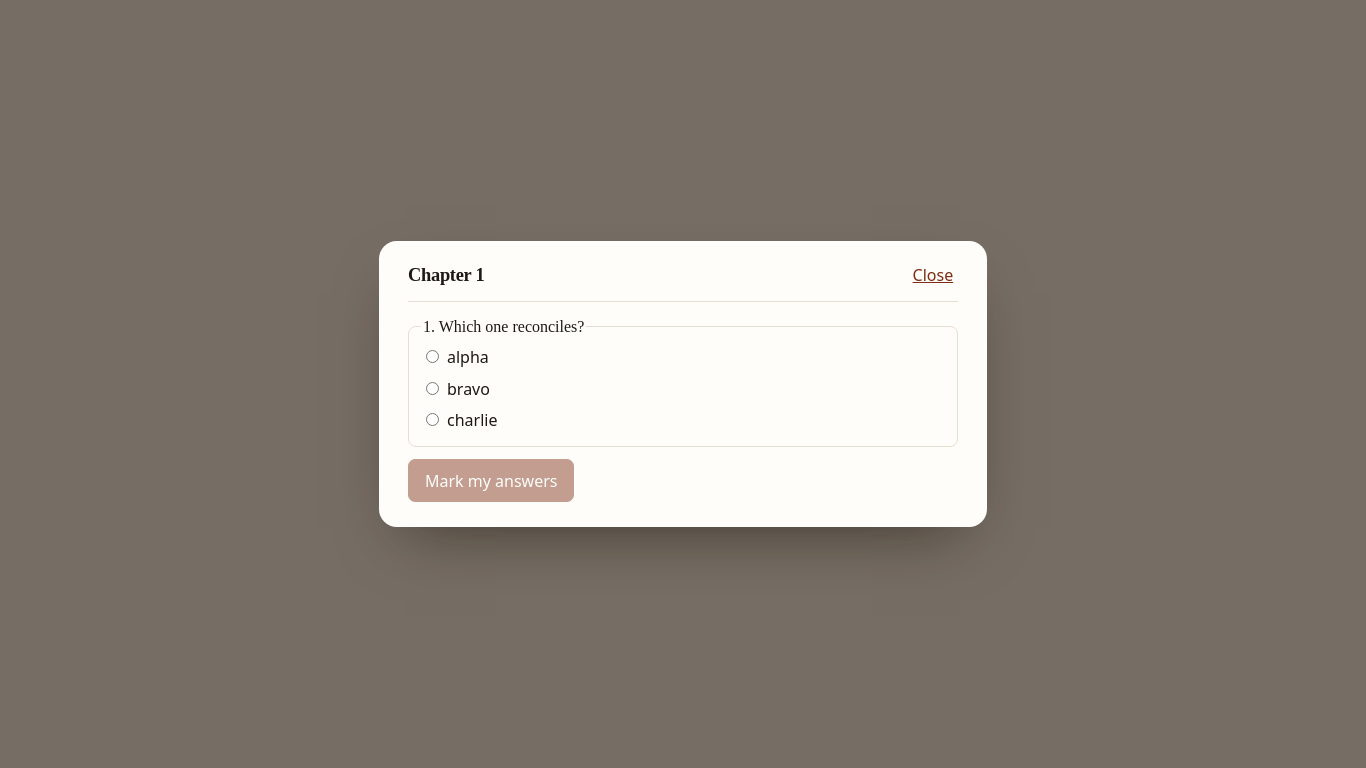
taking a quiz › takes the score from the server rather than working it out here
This screenshot has width=1366, height=768.
Expected: the text "1. Which one reconciles?" is shown, [421, 318, 586, 336]
What coordinates should you click on to do the following:
click the radio button labelled "alpha"
I would click on:
 (432, 356)
Its box is [426, 350, 439, 363].
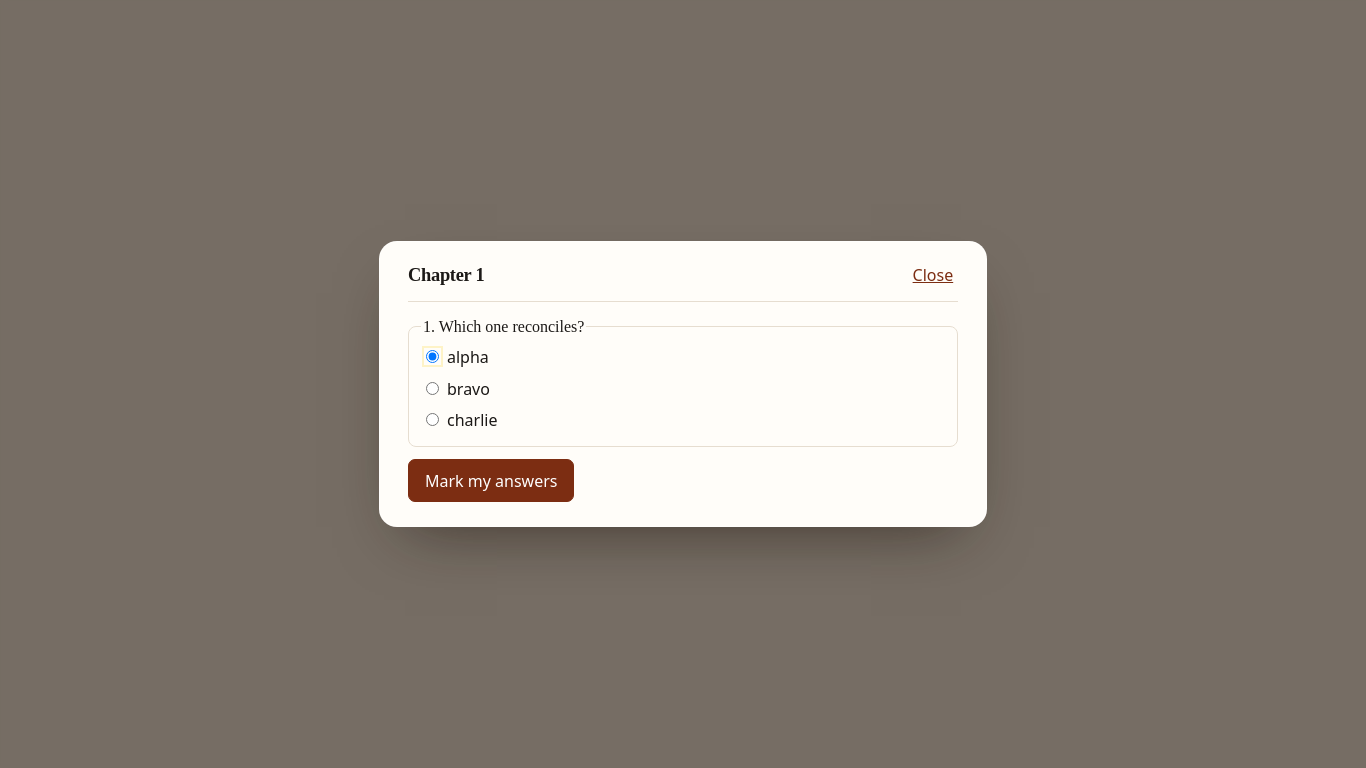
What coordinates should you click on to do the following:
click the button "Mark my answers"
I would click on:
 (491, 481)
Its box is [408, 459, 574, 502].
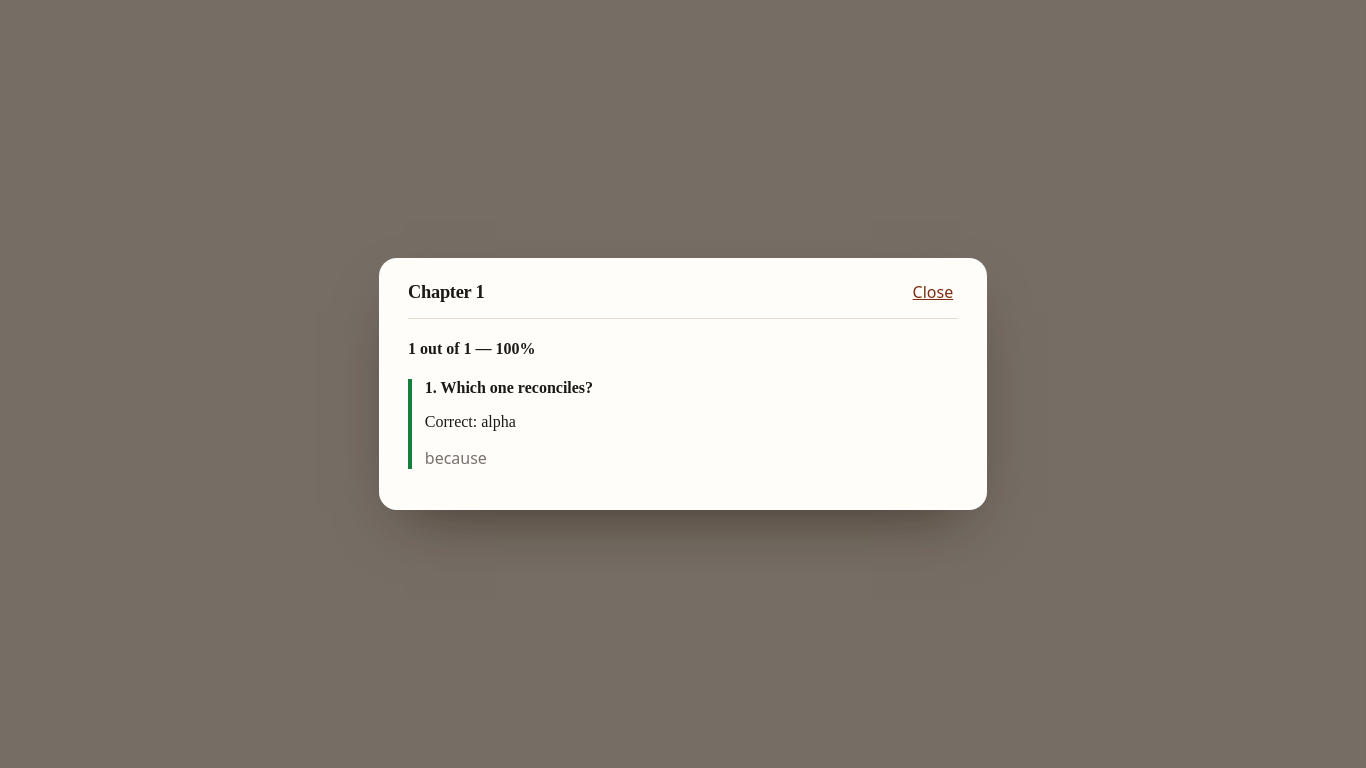
Now the heading "1 out of 1 — 100%" is shown, box [408, 340, 536, 357]
